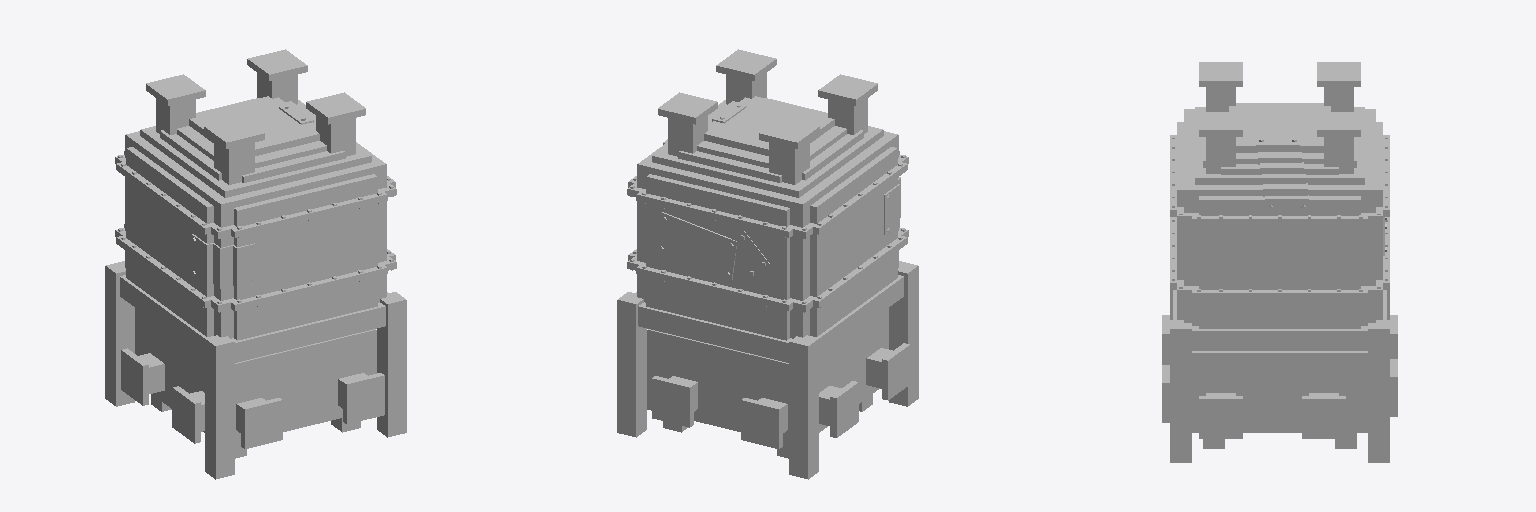
Rendered from liquidfuel_boiler.obj.
3 views of the same model, side by side, from view 1: azimuth 30°, elevation 25°; view 2: azimuth 150°, elevation 25°; view 3: azimuth 270°, elevation 25° (orthographic).
Parts seen in each view (by area): view 1: Body1, Body2, InputBase, Body, BodyCorner4, Burner, BodyCorner1, Body7, BodyC, BodyCorner3, Body6, BodyB (+24 smaller); view 2: Body1, Body2, Body, InputBase, BodyCorner3, BodyCorner2, Burner1, Body7, BodyD, Deco6, Body6, BodyCorner4 (+24 smaller); view 3: Body2, Body, InputBase, Burner2, BodyA, Body7, BodyCorner1, BodyCorner2, Body1, Body6, InputA S, InputB S (+16 smaller).
Part boxes in pixels (x1,y1,x2,y2): Body1: (234, 174, 377, 340); Body2: (126, 147, 213, 336); InputBase: (135, 329, 376, 443); Body: (125, 100, 386, 338); BodyCorner4: (205, 335, 234, 479); Burner: (235, 329, 376, 390); BodyCorner1: (377, 292, 406, 437); Body7: (189, 96, 319, 155); BodyC: (232, 302, 385, 362); BodyCorner3: (105, 261, 134, 406); Body6: (140, 126, 371, 197); BodyB: (120, 275, 211, 357); Body1: (646, 174, 789, 340); Body2: (810, 147, 897, 336); Body: (637, 100, 898, 338); InputBase: (647, 329, 888, 443); BodyCorner3: (789, 335, 818, 479); BodyCorner2: (617, 292, 646, 437); Burner1: (647, 329, 788, 390); Body7: (704, 96, 834, 155); BodyD: (638, 302, 791, 362); Deco6: (656, 212, 736, 279); Body6: (652, 126, 883, 197); BodyCorner4: (889, 261, 918, 406); Body2: (1199, 196, 1360, 328); Body: (1184, 109, 1375, 325); InputBase: (1192, 380, 1367, 432); Burner2: (1206, 351, 1353, 379); BodyA: (1192, 326, 1367, 350); Body7: (1229, 103, 1330, 152); BodyCorner1: (1170, 320, 1191, 462); BodyCorner2: (1368, 320, 1389, 462); Body1: (1177, 122, 1382, 319); Body6: (1195, 107, 1364, 184); InputA S: (1199, 396, 1242, 438); InputB S: (1302, 396, 1345, 438).
Size of the model in its own units: 2 by 3 by 2.